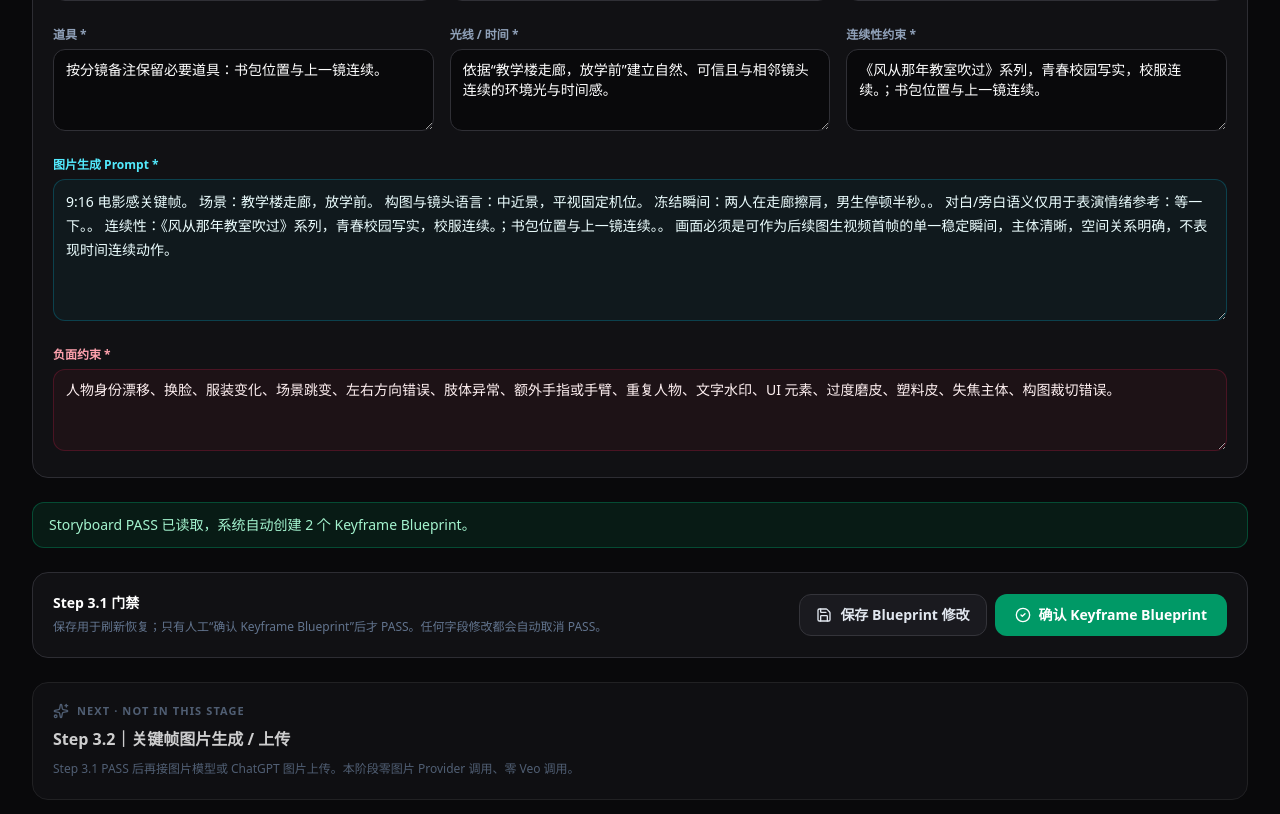
KeyframeBlueprintPage › requires explicit human confirmation and invalidates PASS after any edit
(page scrolled)
Click the button "确认 Keyframe Blueprint": [1111, 614] box left=995, top=594, right=1227, bottom=636
(page scrolled)
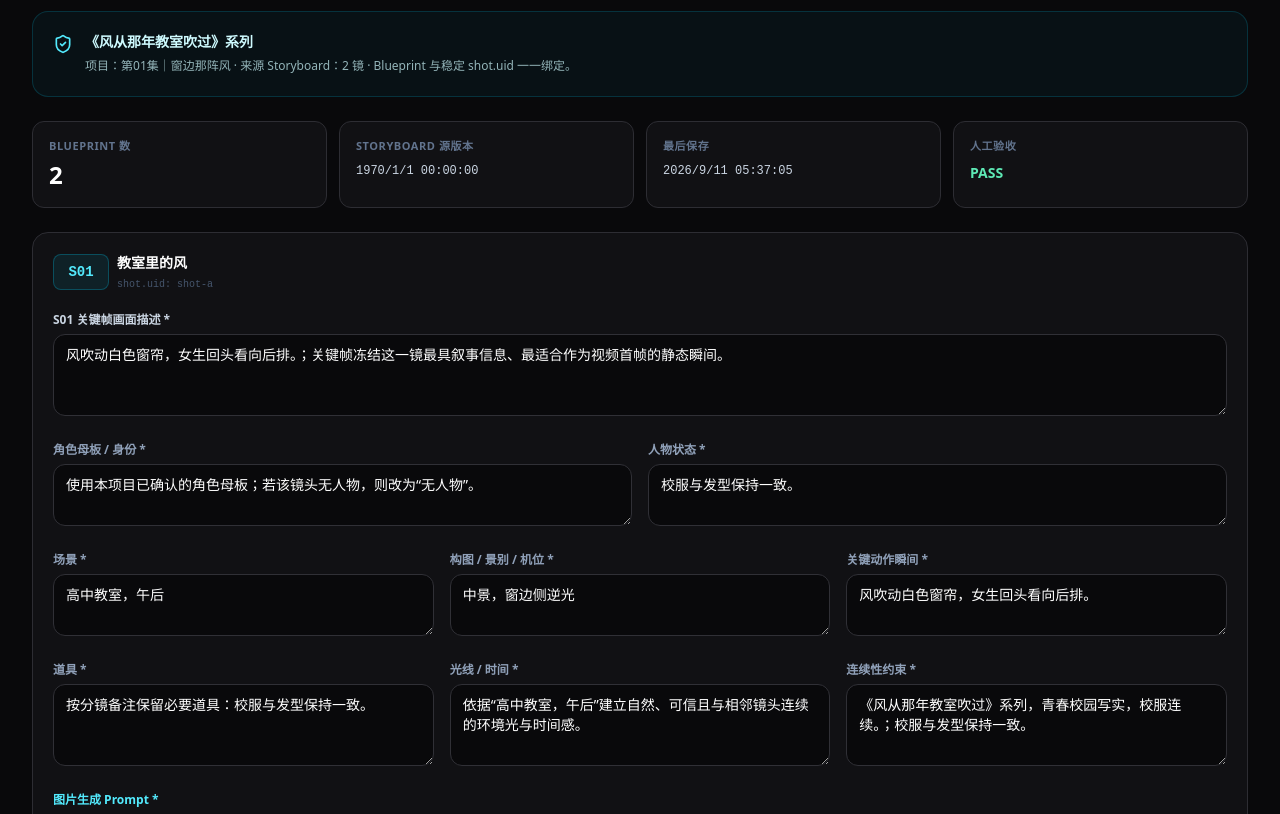
Now the text with test id "keyframe-blueprint-approval-status" reads "PASS", box left=970, top=162, right=1003, bottom=182
Replace the text in the text box labelled "S01 关键帧画面描述" with "人工修改后的关键帧静态瞬间。": [640, 374] box left=53, top=334, right=1227, bottom=416
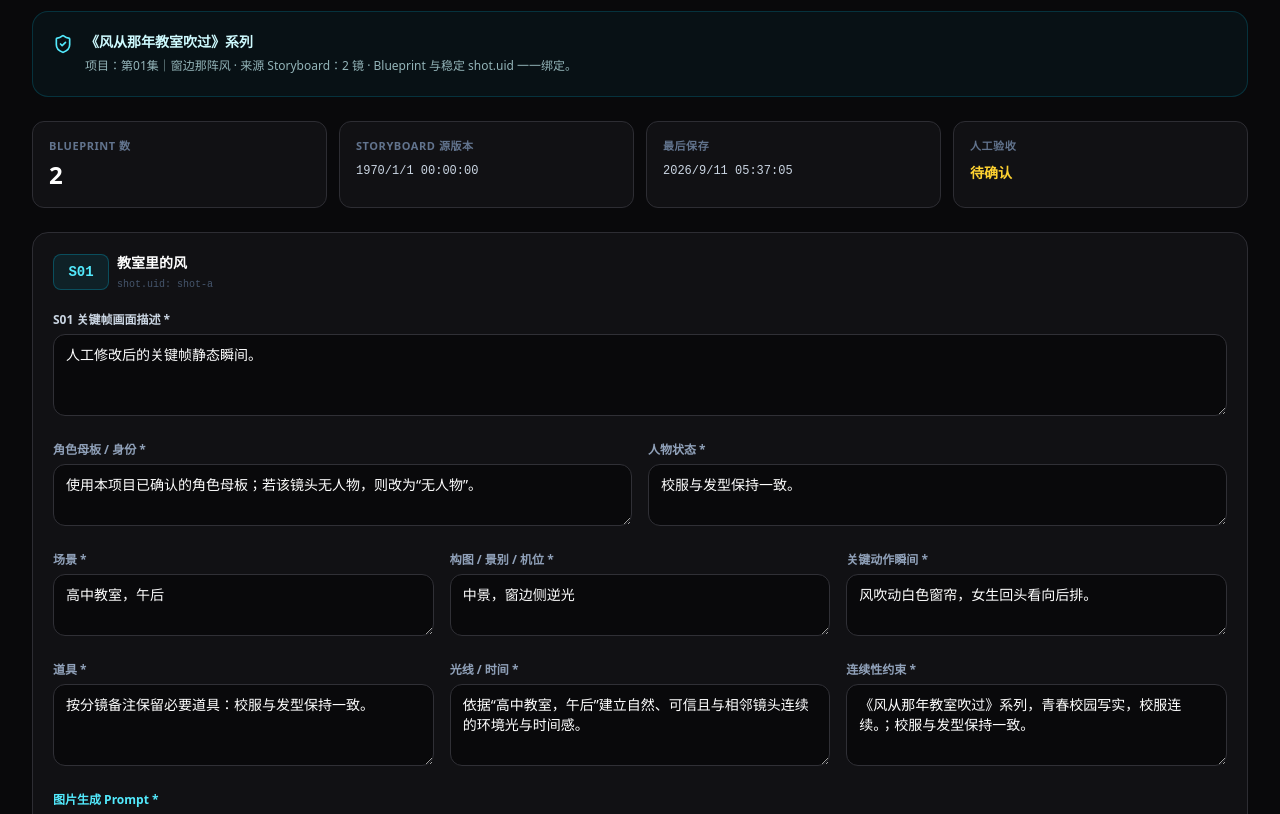
Now the text with test id "keyframe-blueprint-approval-status" reads "待确认", box left=970, top=162, right=1012, bottom=182
